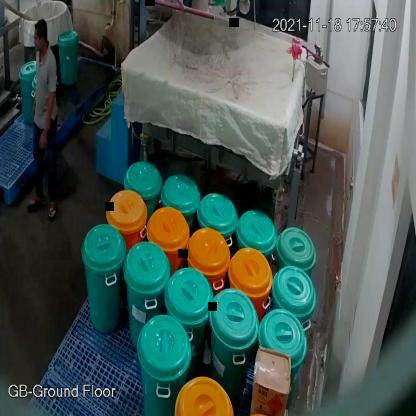no_shoes: (46, 200, 58, 221)
